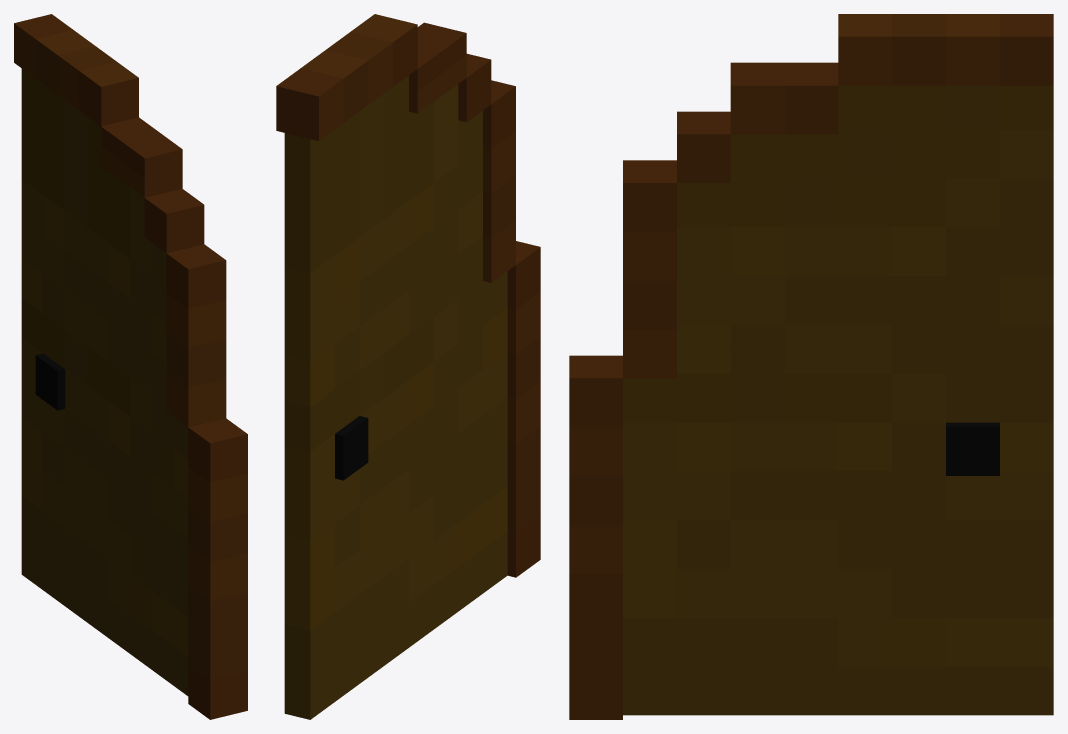
File: wooden_door.gltf
The picture shows the model from 3 angles, left to right: view 1: azimuth 30°, elevation 25°; view 2: azimuth 150°, elevation 25°; view 3: azimuth 270°, elevation 25°; orthographic projection. The views are drawn at different scales.
Parts seen in each view (by area): view 1: c638c02c-1a43-6608-1749-65c2175bfab4, 7edc3211-4b74-06ca-1432-faedd5791383, 7794a76c-8c34-a8b6-3fe3-cc78647bcef5, cb887c08-ef63-8cef-ae98-6fa106d7f83d, 27d10a49-0a5d-c4e6-7dcc-70d9c2aab805, 01df3648-be05-0590-fc6b-0e02986bd185, bcb514c4-8fb5-5771-bc6a-11f115f5b9ca, 12102cc6-2198-ab64-4882-7cbd56ee7f4a, 4cfbbed1-8c14-5ea4-5b8a-9d61c98905f6, 98a6a462-f98b-ce9e-ca40-dbf16b29f0d6; view 2: c638c02c-1a43-6608-1749-65c2175bfab4, 7edc3211-4b74-06ca-1432-faedd5791383, 7794a76c-8c34-a8b6-3fe3-cc78647bcef5, 27d10a49-0a5d-c4e6-7dcc-70d9c2aab805, bcb514c4-8fb5-5771-bc6a-11f115f5b9ca, cb887c08-ef63-8cef-ae98-6fa106d7f83d, 4cfbbed1-8c14-5ea4-5b8a-9d61c98905f6, 01df3648-be05-0590-fc6b-0e02986bd185, 12102cc6-2198-ab64-4882-7cbd56ee7f4a, 98a6a462-f98b-ce9e-ca40-dbf16b29f0d6; view 3: c638c02c-1a43-6608-1749-65c2175bfab4, 7edc3211-4b74-06ca-1432-faedd5791383, 7794a76c-8c34-a8b6-3fe3-cc78647bcef5, bcb514c4-8fb5-5771-bc6a-11f115f5b9ca, 27d10a49-0a5d-c4e6-7dcc-70d9c2aab805, cb887c08-ef63-8cef-ae98-6fa106d7f83d, 4cfbbed1-8c14-5ea4-5b8a-9d61c98905f6, 01df3648-be05-0590-fc6b-0e02986bd185, 12102cc6-2198-ab64-4882-7cbd56ee7f4a, 98a6a462-f98b-ce9e-ca40-dbf16b29f0d6.
Boxes of the visible parts, bbox=[...] form: c638c02c-1a43-6608-1749-65c2175bfab4: bbox=[21, 298, 188, 695]; 7edc3211-4b74-06ca-1432-faedd5791383: bbox=[21, 140, 166, 403]; 7794a76c-8c34-a8b6-3fe3-cc78647bcef5: bbox=[188, 418, 247, 719]; cb887c08-ef63-8cef-ae98-6fa106d7f83d: bbox=[166, 244, 226, 427]; 27d10a49-0a5d-c4e6-7dcc-70d9c2aab805: bbox=[14, 14, 138, 126]; 01df3648-be05-0590-fc6b-0e02986bd185: bbox=[101, 117, 182, 197]; bcb514c4-8fb5-5771-bc6a-11f115f5b9ca: bbox=[21, 101, 144, 229]; 12102cc6-2198-ab64-4882-7cbd56ee7f4a: bbox=[144, 189, 204, 253]; 4cfbbed1-8c14-5ea4-5b8a-9d61c98905f6: bbox=[21, 68, 101, 158]; 98a6a462-f98b-ce9e-ca40-dbf16b29f0d6: bbox=[35, 353, 65, 410]; c638c02c-1a43-6608-1749-65c2175bfab4: bbox=[284, 271, 507, 719]; 7edc3211-4b74-06ca-1432-faedd5791383: bbox=[284, 111, 482, 407]; 7794a76c-8c34-a8b6-3fe3-cc78647bcef5: bbox=[507, 241, 540, 577]; 27d10a49-0a5d-c4e6-7dcc-70d9c2aab805: bbox=[276, 14, 417, 140]; bcb514c4-8fb5-5771-bc6a-11f115f5b9ca: bbox=[284, 84, 458, 228]; cb887c08-ef63-8cef-ae98-6fa106d7f83d: bbox=[483, 80, 515, 282]; 4cfbbed1-8c14-5ea4-5b8a-9d61c98905f6: bbox=[284, 75, 408, 183]; 01df3648-be05-0590-fc6b-0e02986bd185: bbox=[409, 22, 466, 113]; 12102cc6-2198-ab64-4882-7cbd56ee7f4a: bbox=[458, 53, 491, 122]; 98a6a462-f98b-ce9e-ca40-dbf16b29f0d6: bbox=[335, 416, 368, 480]; c638c02c-1a43-6608-1749-65c2175bfab4: bbox=[623, 373, 1053, 715]; 7edc3211-4b74-06ca-1432-faedd5791383: bbox=[677, 178, 1053, 373]; 7794a76c-8c34-a8b6-3fe3-cc78647bcef5: bbox=[569, 355, 622, 719]; bcb514c4-8fb5-5771-bc6a-11f115f5b9ca: bbox=[730, 129, 1053, 178]; 27d10a49-0a5d-c4e6-7dcc-70d9c2aab805: bbox=[838, 14, 1053, 85]; cb887c08-ef63-8cef-ae98-6fa106d7f83d: bbox=[623, 160, 676, 378]; 4cfbbed1-8c14-5ea4-5b8a-9d61c98905f6: bbox=[838, 85, 1053, 129]; 01df3648-be05-0590-fc6b-0e02986bd185: bbox=[730, 62, 838, 134]; 12102cc6-2198-ab64-4882-7cbd56ee7f4a: bbox=[677, 111, 730, 182]; 98a6a462-f98b-ce9e-ca40-dbf16b29f0d6: bbox=[946, 422, 999, 475].
Bounding box in the file's own units: 0.0625 × 0.875 × 0.5625.
1 material, 1 textured.
